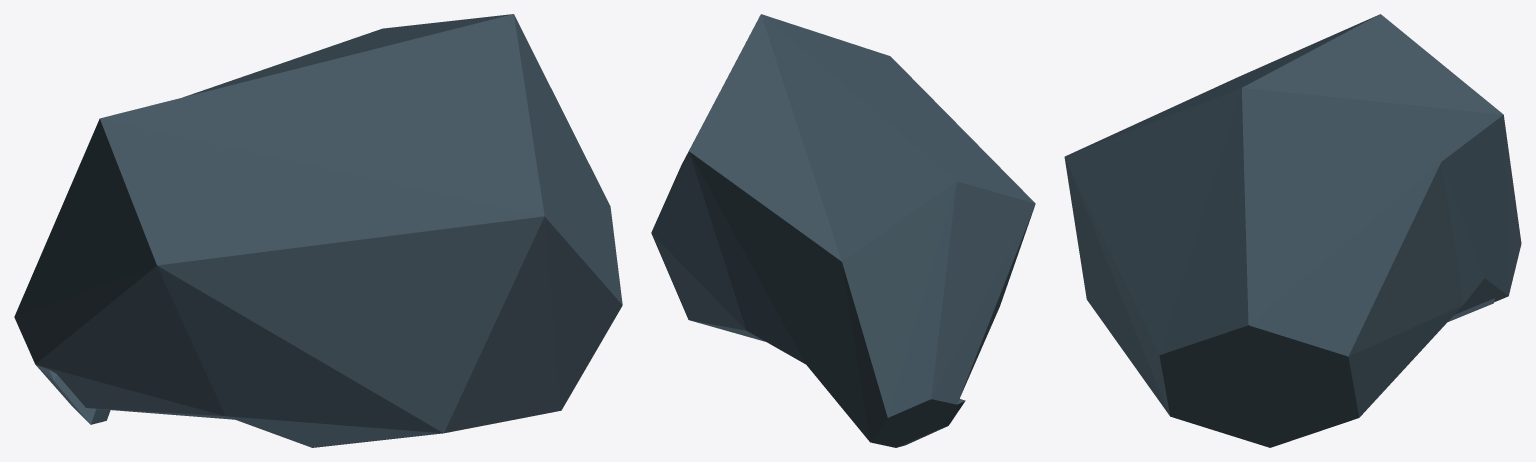
File: black-rock.glb
3 renders of one model, left to right at view 1: azimuth 30°, elevation 25°; view 2: azimuth 150°, elevation 25°; view 3: azimuth 270°, elevation 25°, orthographic. The views are drawn at different scales.
Parts seen in each view (by area): view 1: Node; view 2: Node; view 3: Node.
Boxes of the visible parts, x1=… form: Node: x1=14, y1=14, x2=622, y2=447; Node: x1=651, y1=14, x2=1035, y2=447; Node: x1=1064, y1=14, x2=1521, y2=447.
Size of the model in its own units: 0.0787 by 0.0664 by 0.0753.
